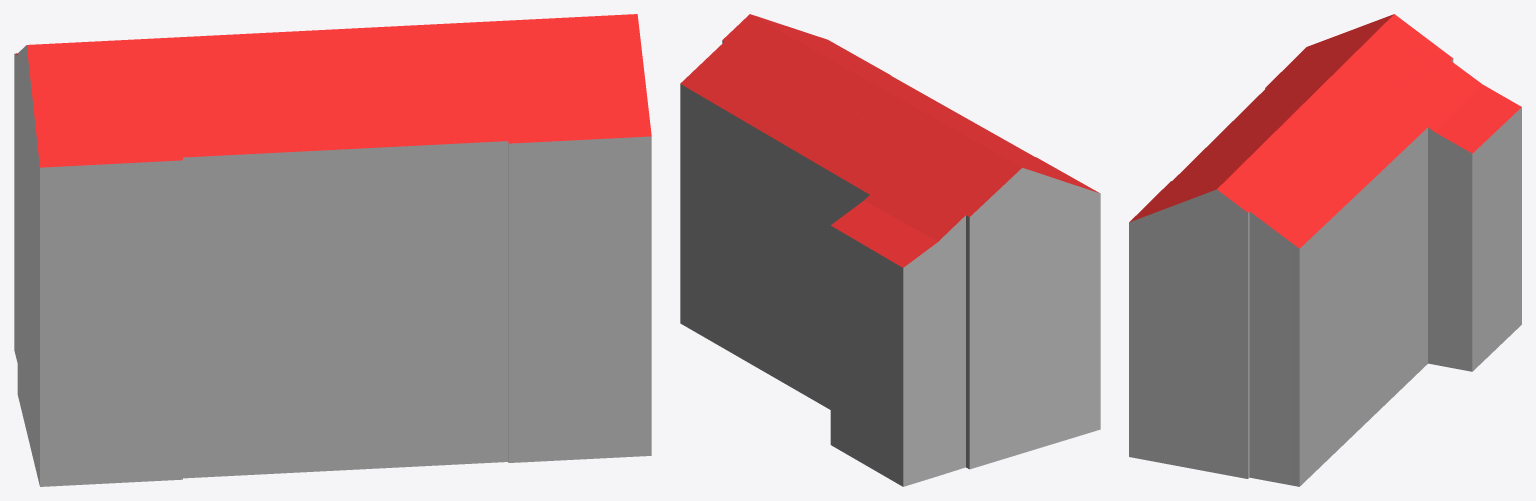
File: DEBY_LOD2_4906972.dae
The picture shows the model from 3 angles, left to right: view 1: azimuth 30°, elevation 25°; view 2: azimuth 150°, elevation 25°; view 3: azimuth 270°, elevation 25°; orthographic projection. The views are drawn at different scales.
Bounding box in the file's own units: 31.32 × 25.29 × 20.16.
